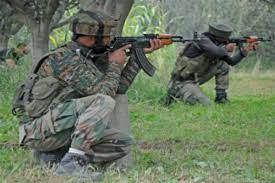gun: (107, 33, 199, 69), (216, 34, 275, 53)
uniform: (15, 40, 114, 170), (180, 32, 228, 113)
